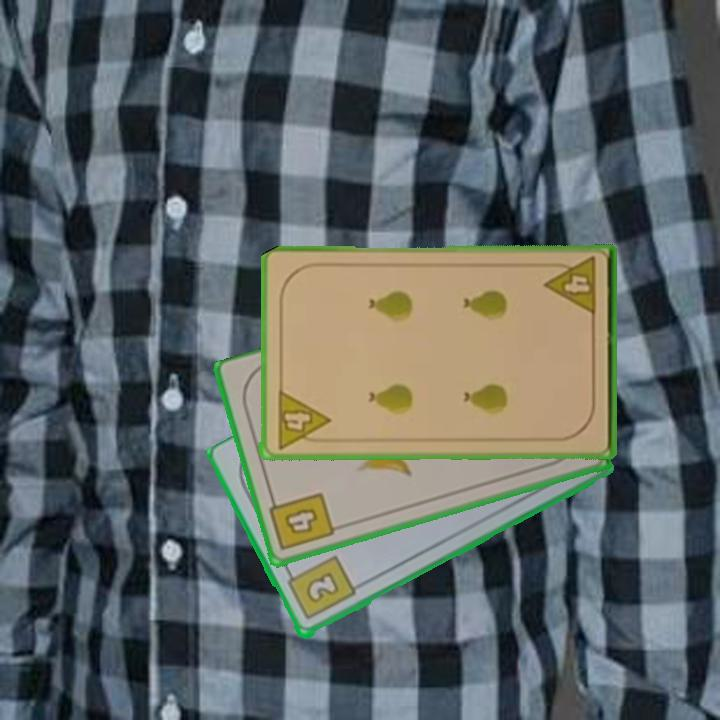2b: (282, 552, 358, 623)
4b: (266, 489, 337, 554)
4p: (273, 386, 331, 451), (542, 254, 599, 319)
